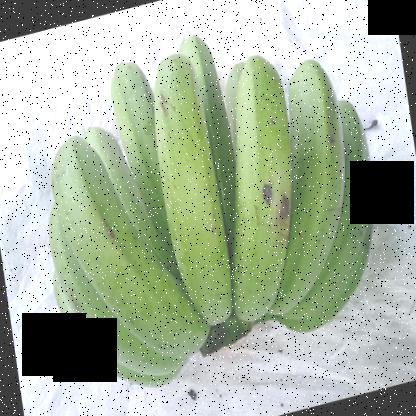unripe: (47, 134, 199, 379), (146, 49, 236, 362), (266, 41, 346, 355), (219, 41, 295, 336)
